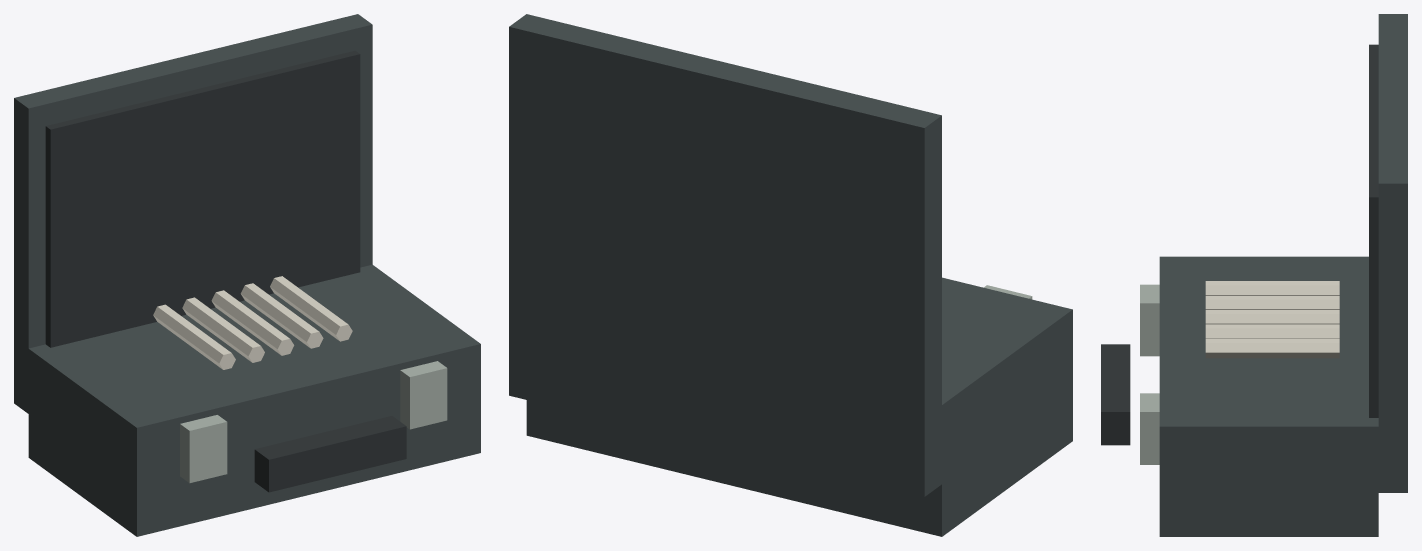
File: blender_chalk_sigil_kit_2.glb
3 renders of one model, left to right at view 1: azimuth 30°, elevation 25°; view 2: azimuth 150°, elevation 25°; view 3: azimuth 270°, elevation 25°, orthographic. The views are drawn at different scales.
Visible parts, largest first — view 1: blender_chalk_sigil_kit_2; view 2: blender_chalk_sigil_kit_2; view 3: blender_chalk_sigil_kit_2.
Part boxes in pixels (x1,y1,x2,y2): blender_chalk_sigil_kit_2: (14,14,480,536); blender_chalk_sigil_kit_2: (509,14,1072,536); blender_chalk_sigil_kit_2: (1101,14,1407,536).
Size of the model in its own units: 0.165 by 0.16 by 0.126.
Materials: 1 (1 with a texture image).
